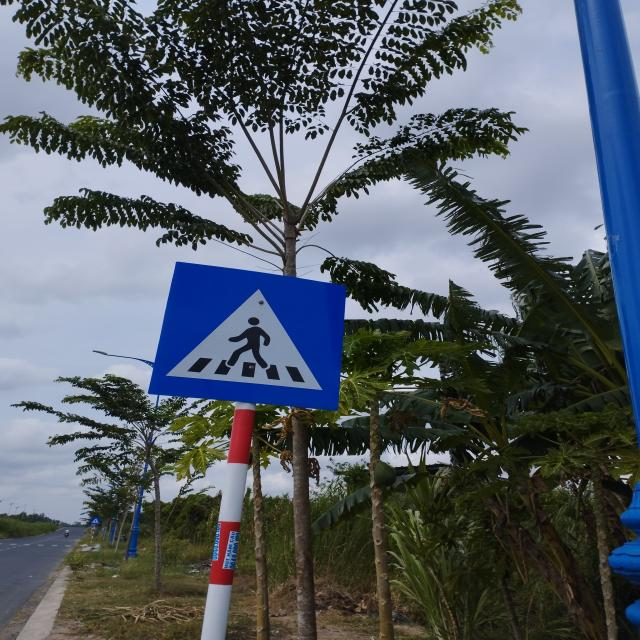Giao_Nhau_Duong_Uu_Tien: (150, 261, 347, 408)
